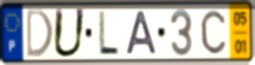3: (169, 7, 193, 58)
A: (124, 10, 159, 56)
C: (199, 8, 228, 56)
D: (25, 7, 55, 60)
L: (96, 9, 121, 57)
U: (51, 7, 88, 60)
